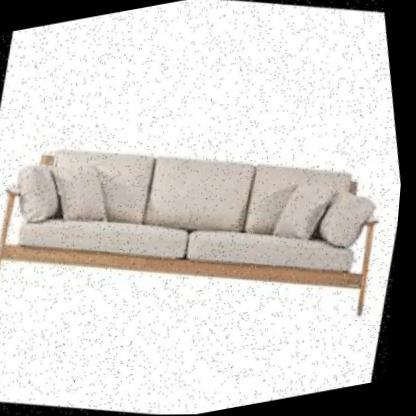Sofa: (0, 52, 413, 409)
